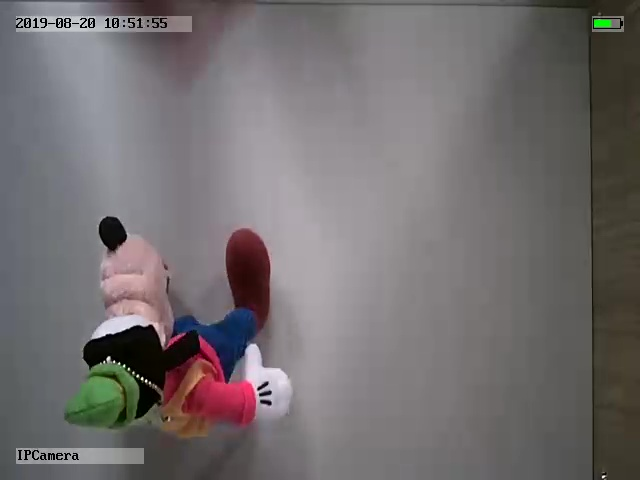goofy: (60, 214, 295, 436)
